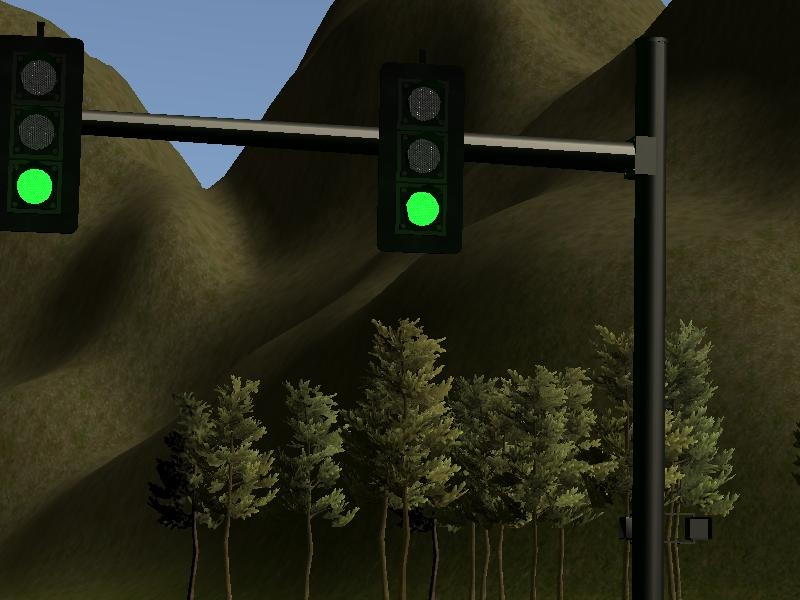GREEN: (381, 57, 464, 258), (2, 35, 81, 232)
